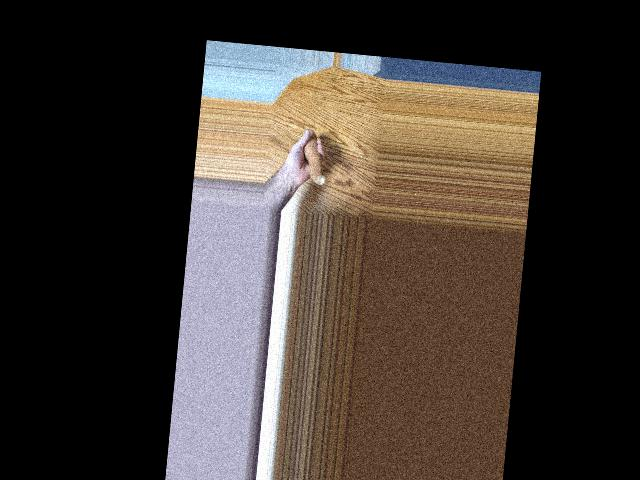sweet_potato: (300, 126, 329, 189)
